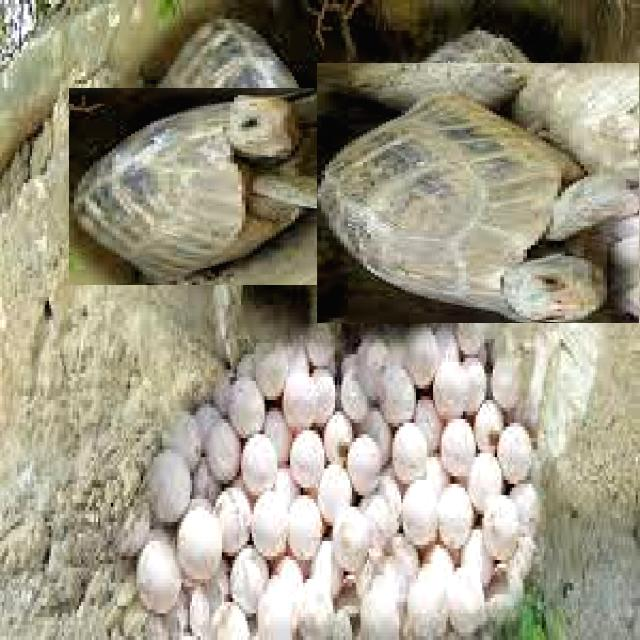Sea turtle: (334, 46, 627, 339), (106, 51, 376, 321)
